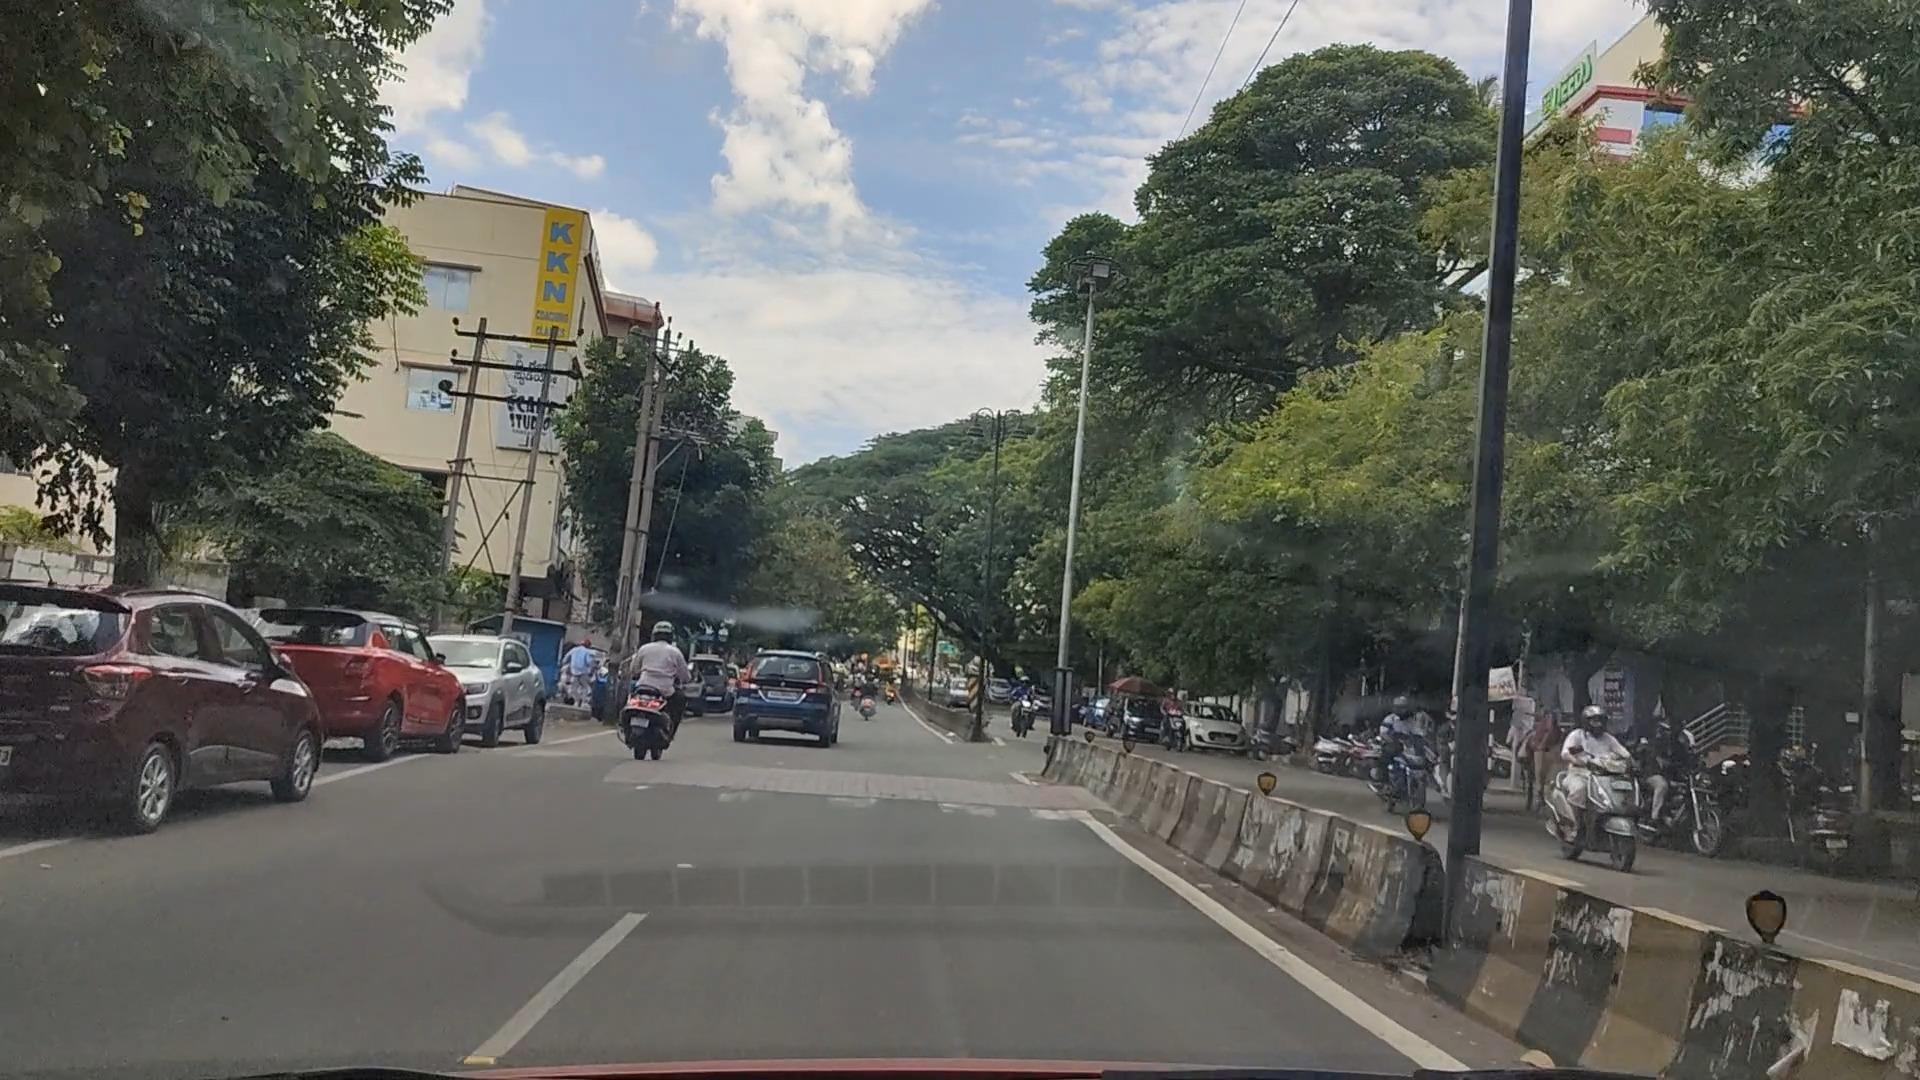LMV: (21, 596, 338, 823), (625, 600, 695, 750)
SpeedBump: (440, 741, 1081, 839)
